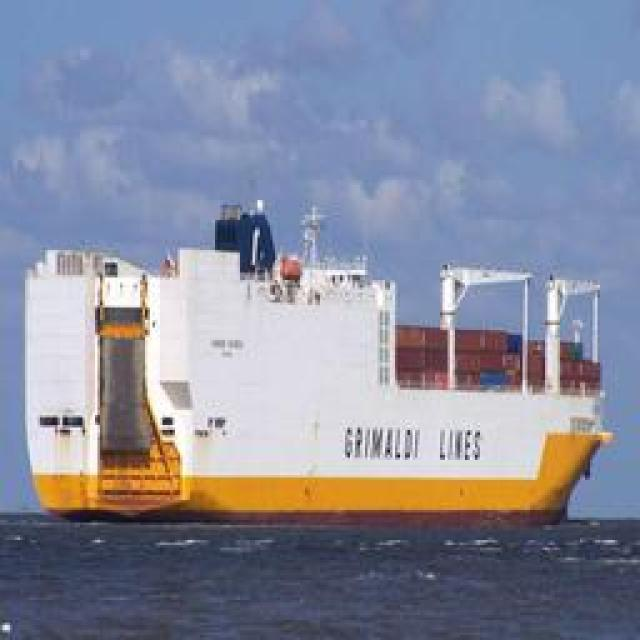CIV_Ship: (31, 232, 616, 530)
